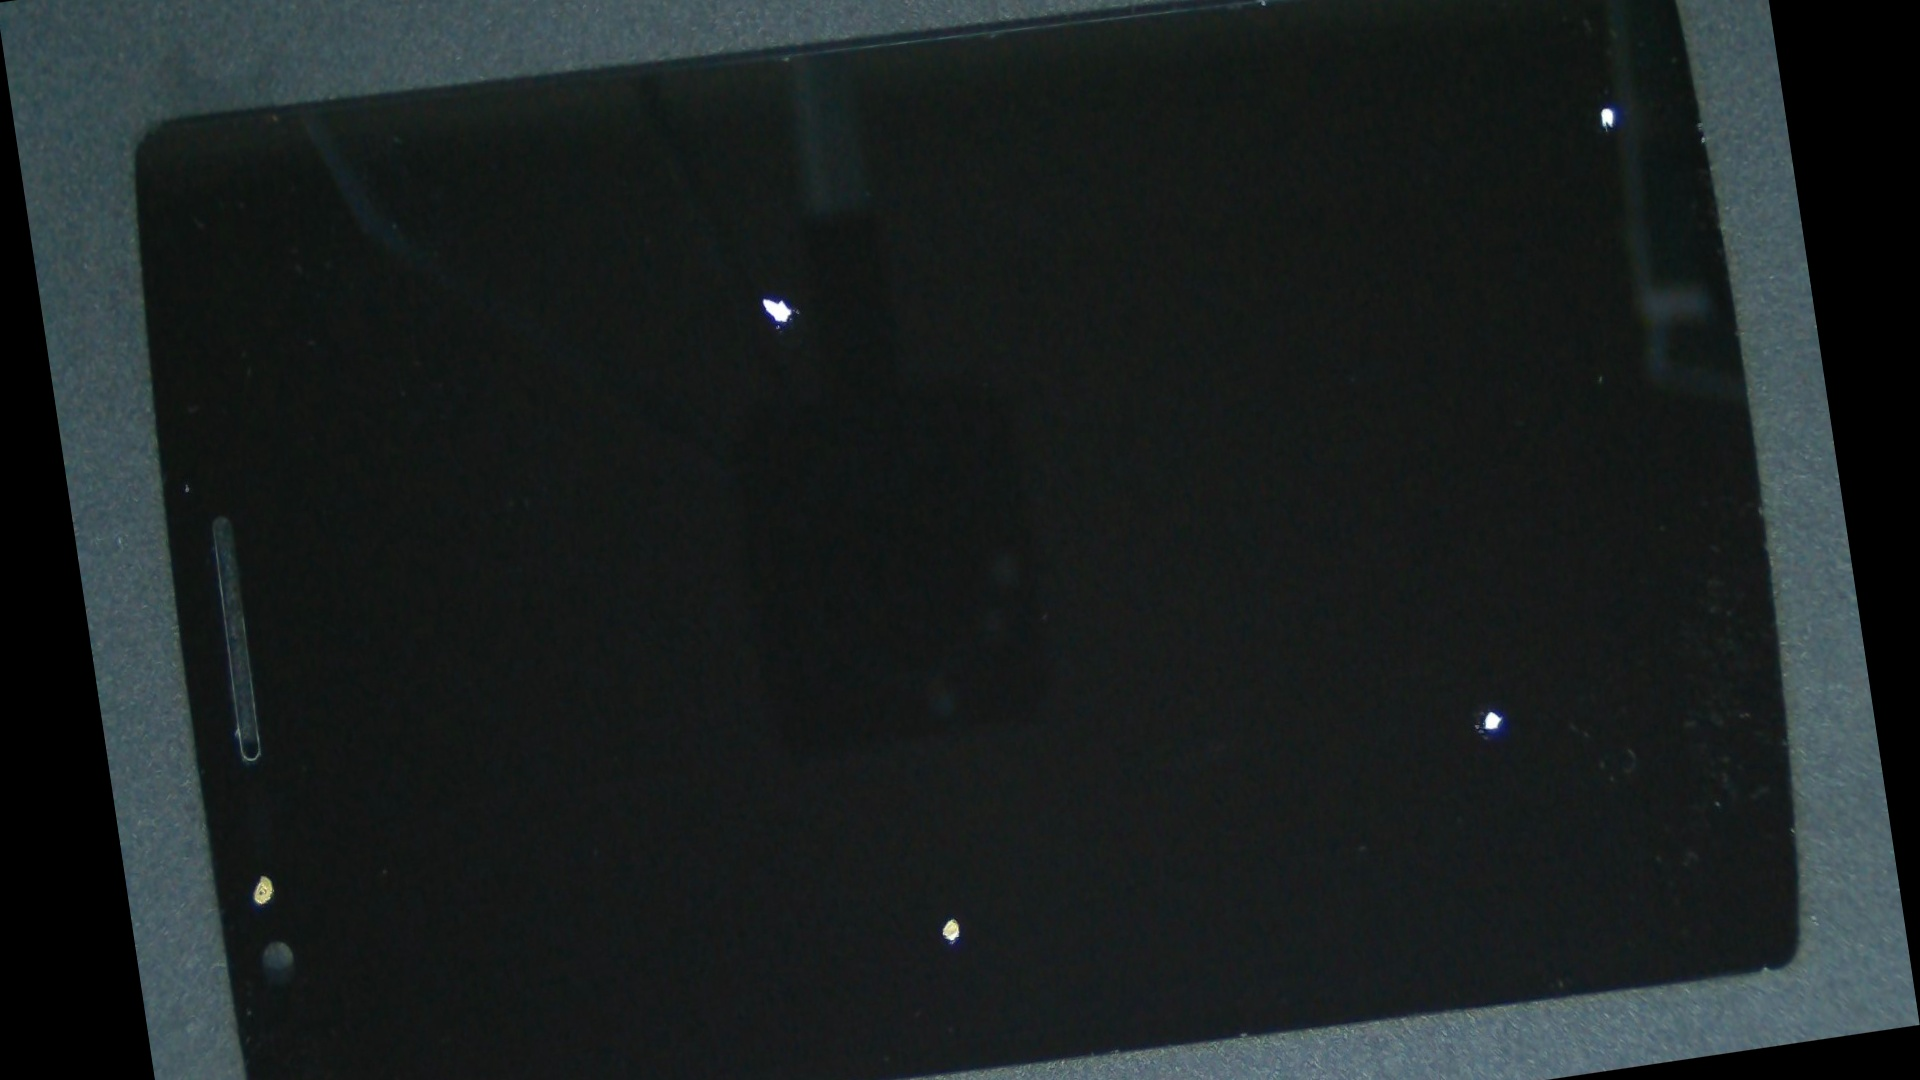oil: (742, 200, 1920, 1080), (475, 340, 1387, 1080), (800, 0, 1805, 390), (378, 46, 1145, 550), (128, 418, 382, 1080)
